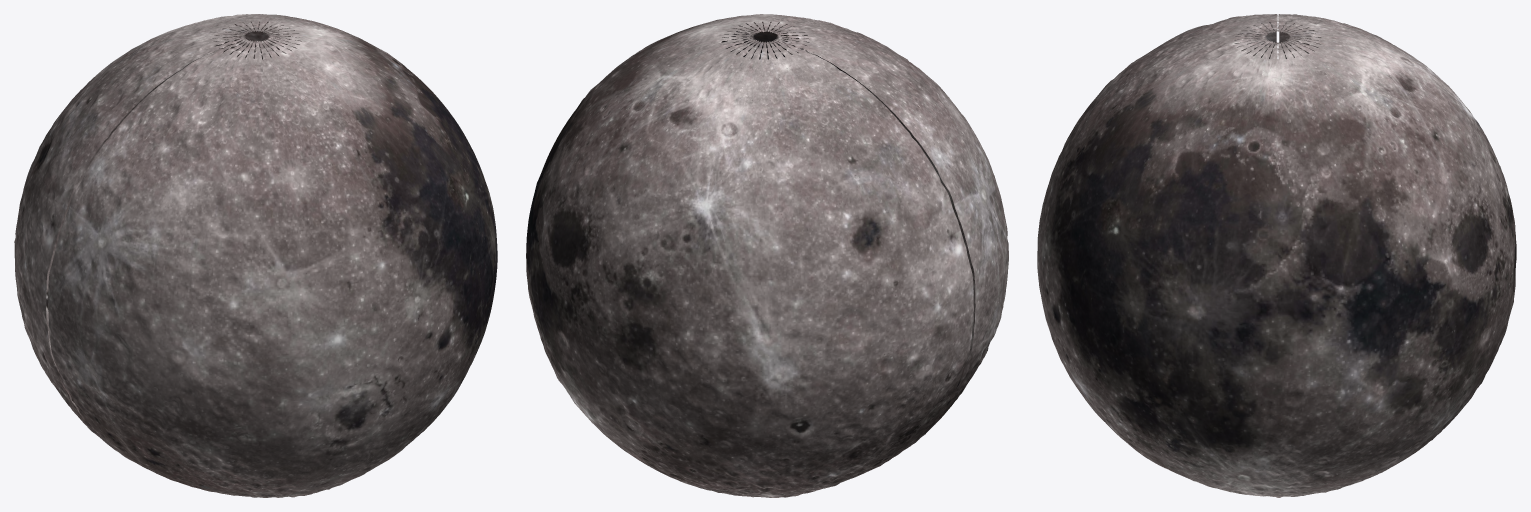
Rendered from moon-lro-lite.glb.
3 views of the same model, side by side, from view 1: azimuth 30°, elevation 25°; view 2: azimuth 150°, elevation 25°; view 3: azimuth 270°, elevation 25° (orthographic).
Parts seen in each view (by area): view 1: Sphere; view 2: Sphere; view 3: Sphere.
Boxes of the visible parts, left/top/right/bottom form: Sphere: left=14, top=14, right=497, bottom=497; Sphere: left=526, top=14, right=1008, bottom=497; Sphere: left=1037, top=14, right=1516, bottom=497.
Size of the model in its own units: 1.97 by 1.98 by 1.96.
1 material, 1 textured.
